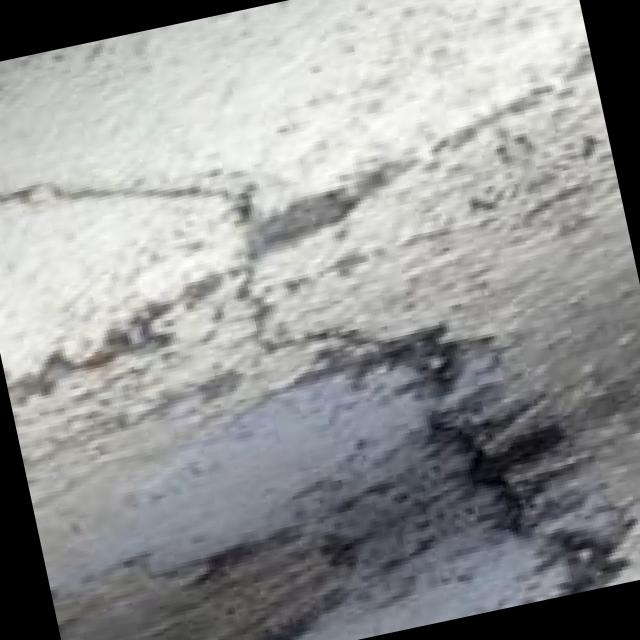crack: (0, 68, 279, 296)
